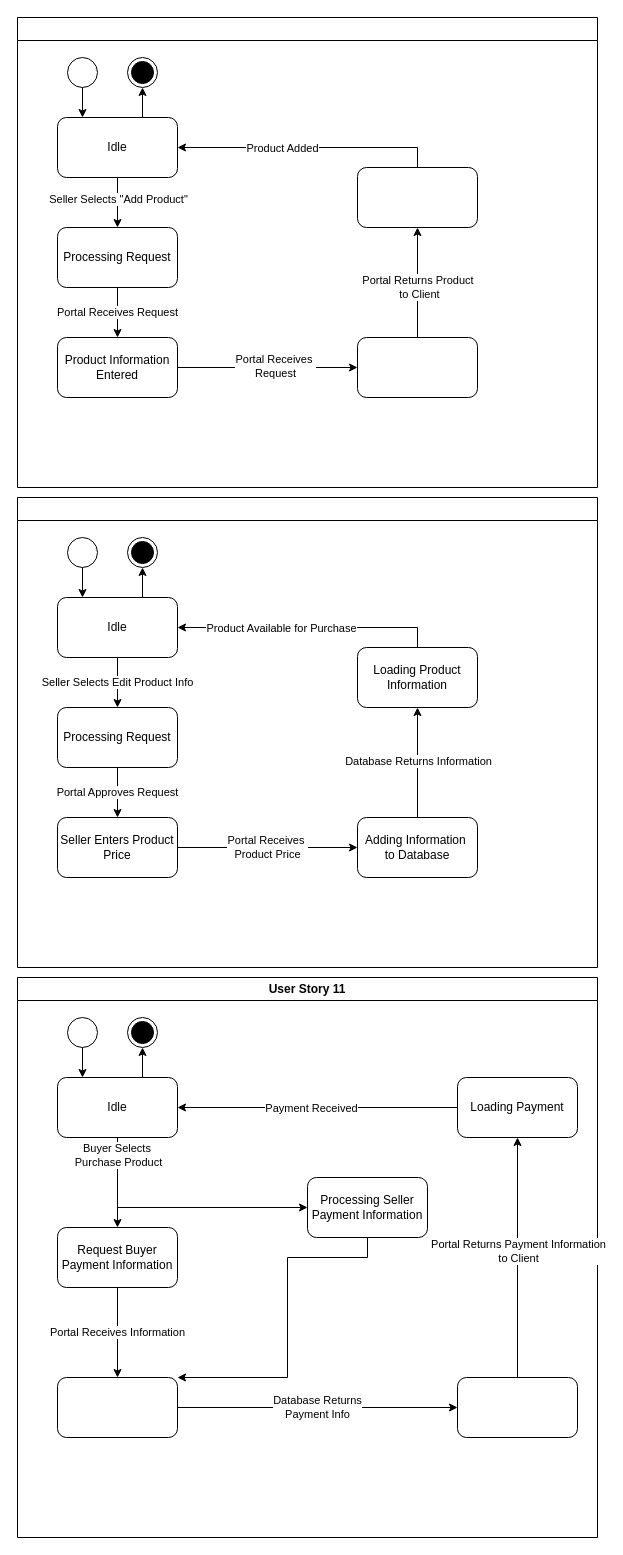
Image size: 623x1555. Some labels were removed from this diagram. Each missing label, with the box of its shape:
Adding Product to Database: (356, 336, 478, 398)
Compiling Payment Info: (456, 1376, 578, 1438)
Loading Product: (356, 166, 478, 228)
Searching Database: (56, 1376, 178, 1438)
User Story 10: (16, 496, 598, 968)
User Story 9: (16, 16, 598, 488)
